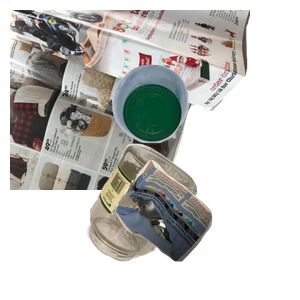glass: (85, 141, 275, 300)
paper: (10, 10, 250, 190)
plastic: (110, 62, 300, 198)
trash: (113, 157, 300, 300)
